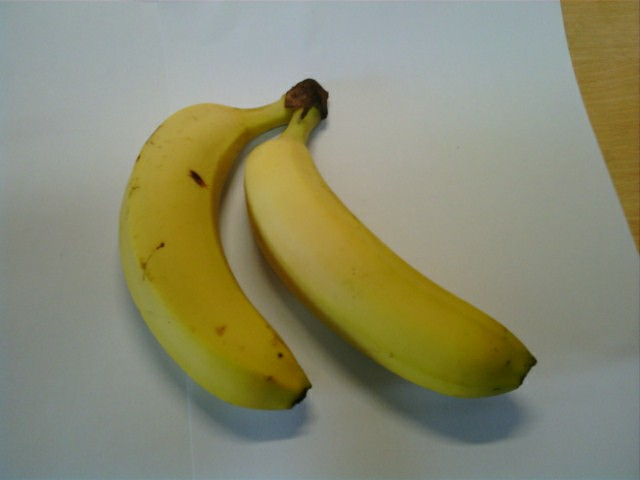fresh_banana: (243, 133, 540, 399)
normal_banana: (119, 102, 306, 409)
